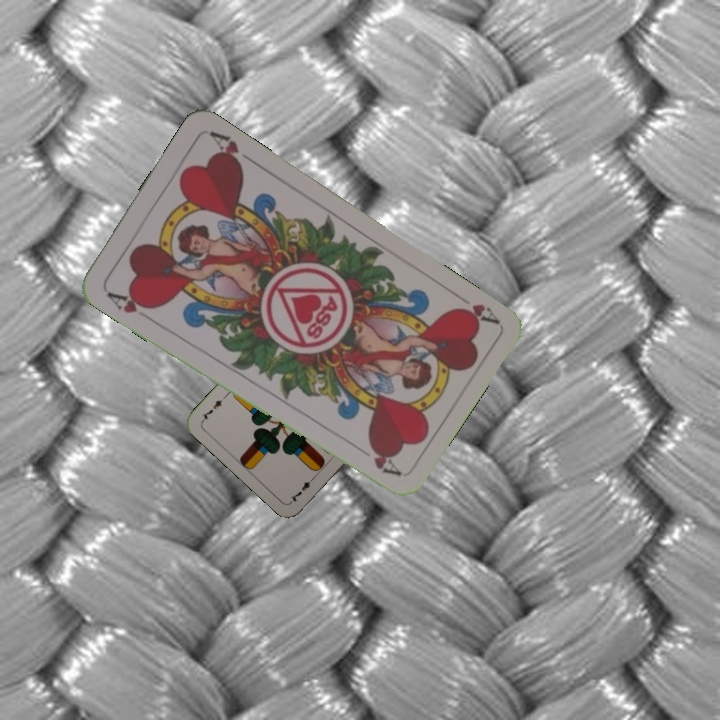E7: (286, 472, 318, 505)
HA: (447, 289, 500, 328), (102, 287, 158, 316)
